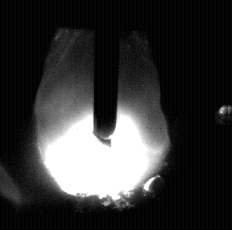arame: (94, 0, 118, 144)
poca: (35, 0, 171, 230)
